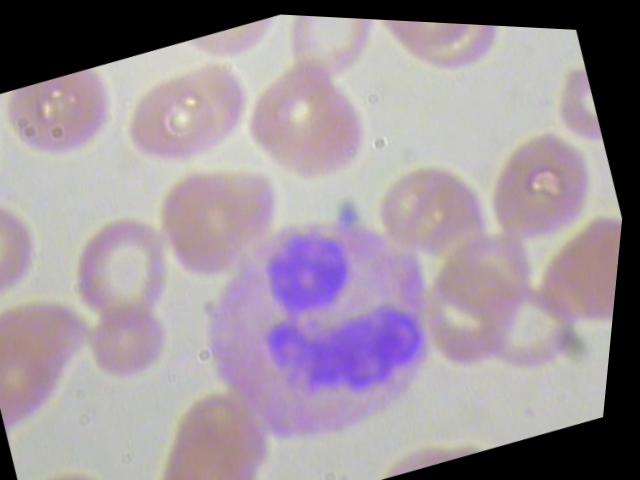Red Blood Cells: (139, 144, 306, 294), (105, 42, 271, 187), (469, 112, 617, 261), (231, 51, 385, 192), (363, 143, 505, 279), (60, 200, 197, 337), (0, 60, 131, 176), (82, 295, 188, 394), (272, 11, 395, 91), (0, 190, 59, 314), (26, 446, 150, 479)
White Blood Cells: (167, 180, 479, 476)
